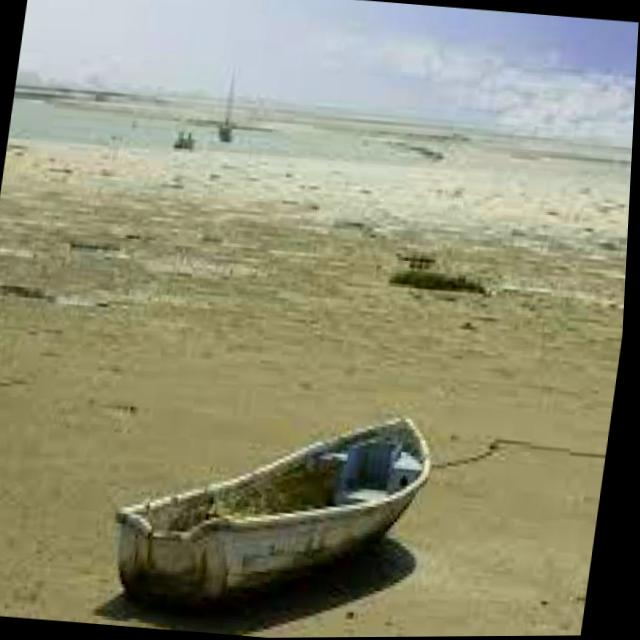ship2: (121, 420, 437, 612)
